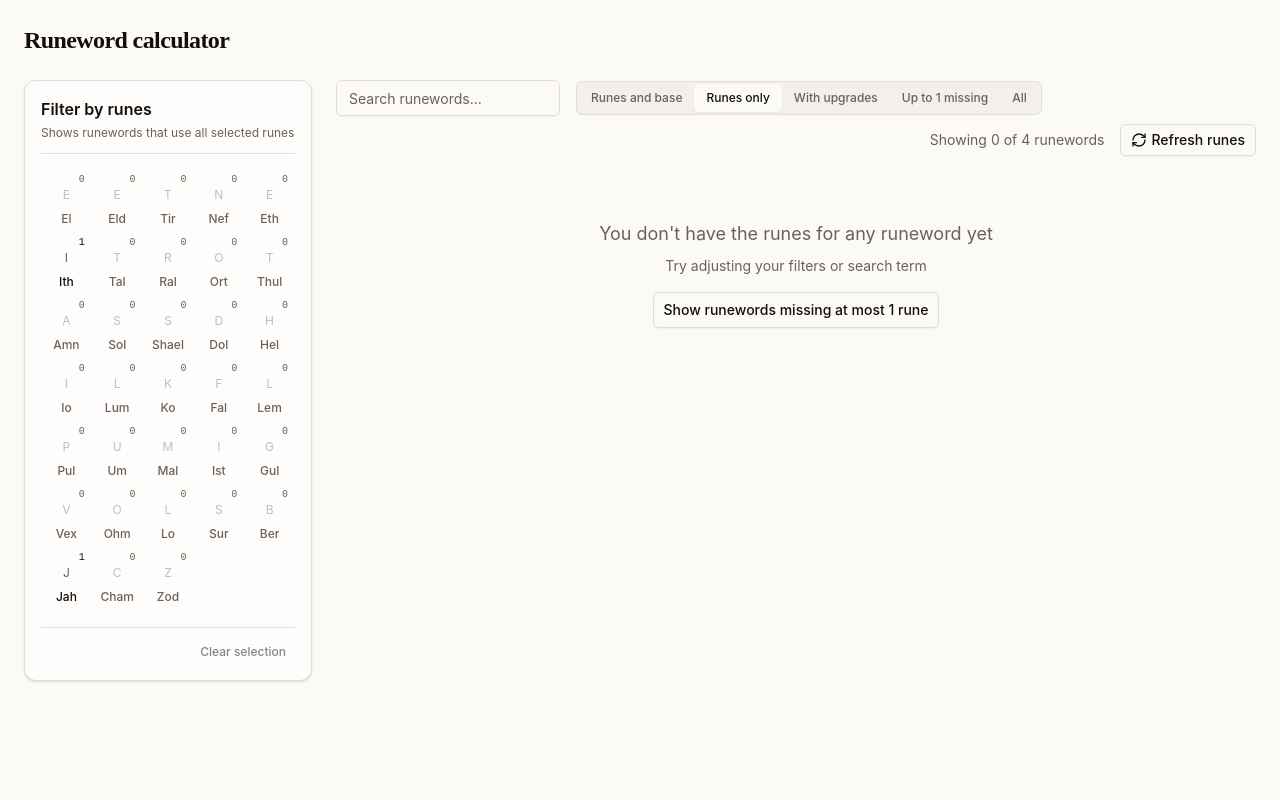
Test case: RunewordCalculator › missing runes › When a runeword card lacks a rune, then the missing rune shows a marker and Missing text inside that card
Expected: the text "Showing 0 of 4 runewords" is shown, x1=930 y1=130 x2=1104 y2=150
Click the button "Up to 1 missing" at (945, 98), box x1=890 y1=84 x2=1000 y2=112
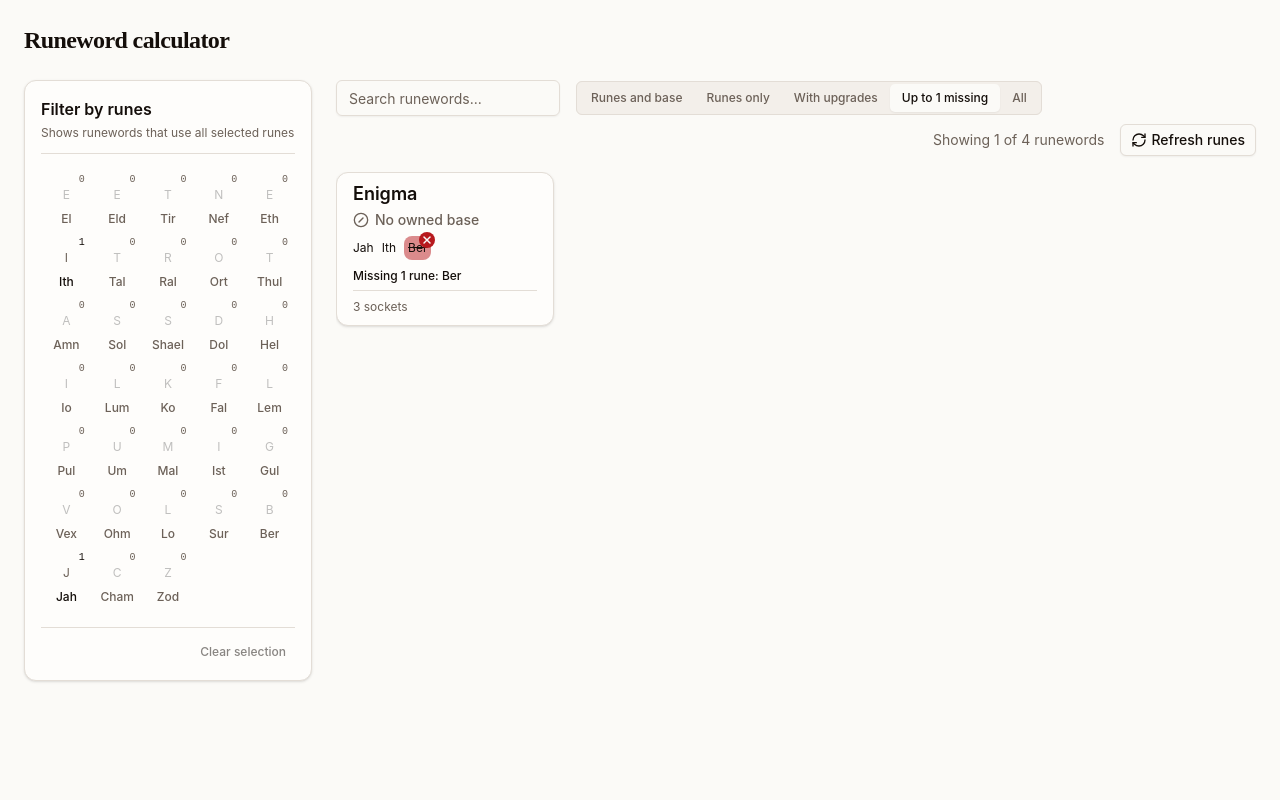
Expected: the number of elements with test id "missing-rune-marker" is 1, x1=420 y1=232 x2=436 y2=248
